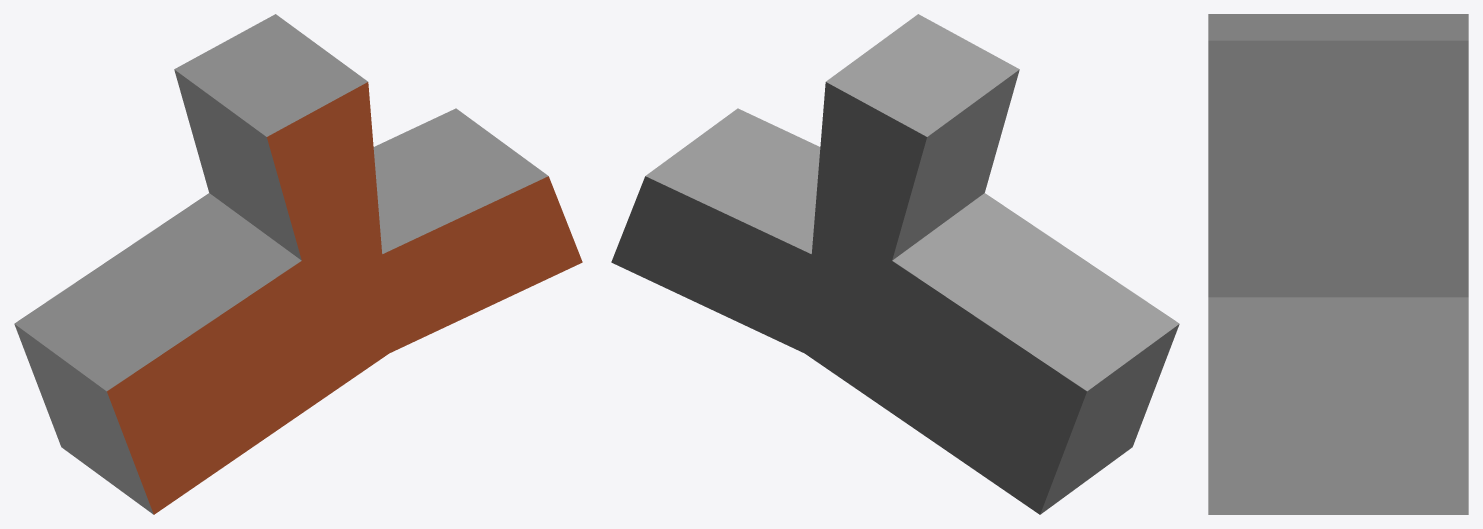
Rendered from construction_5825_assumed_A_Casa_h6m.obj.
3 views of the same model, side by side, from view 1: azimuth 30°, elevation 25°; view 2: azimuth 150°, elevation 25°; view 3: azimuth 270°, elevation 25° (orthographic). The views are drawn at different scales.
Parts seen in each view (by area): view 1: construction_5825_assumed_A_Casa; view 2: construction_5825_assumed_A_Casa; view 3: construction_5825_assumed_A_Casa.
Boxes of the visible parts, box(x1,y1,x2,y2) form: construction_5825_assumed_A_Casa: box(14, 14, 582, 514); construction_5825_assumed_A_Casa: box(611, 14, 1179, 514); construction_5825_assumed_A_Casa: box(1208, 14, 1468, 514).
Size of the model in its own units: 17.8 by 13.61 by 6.
